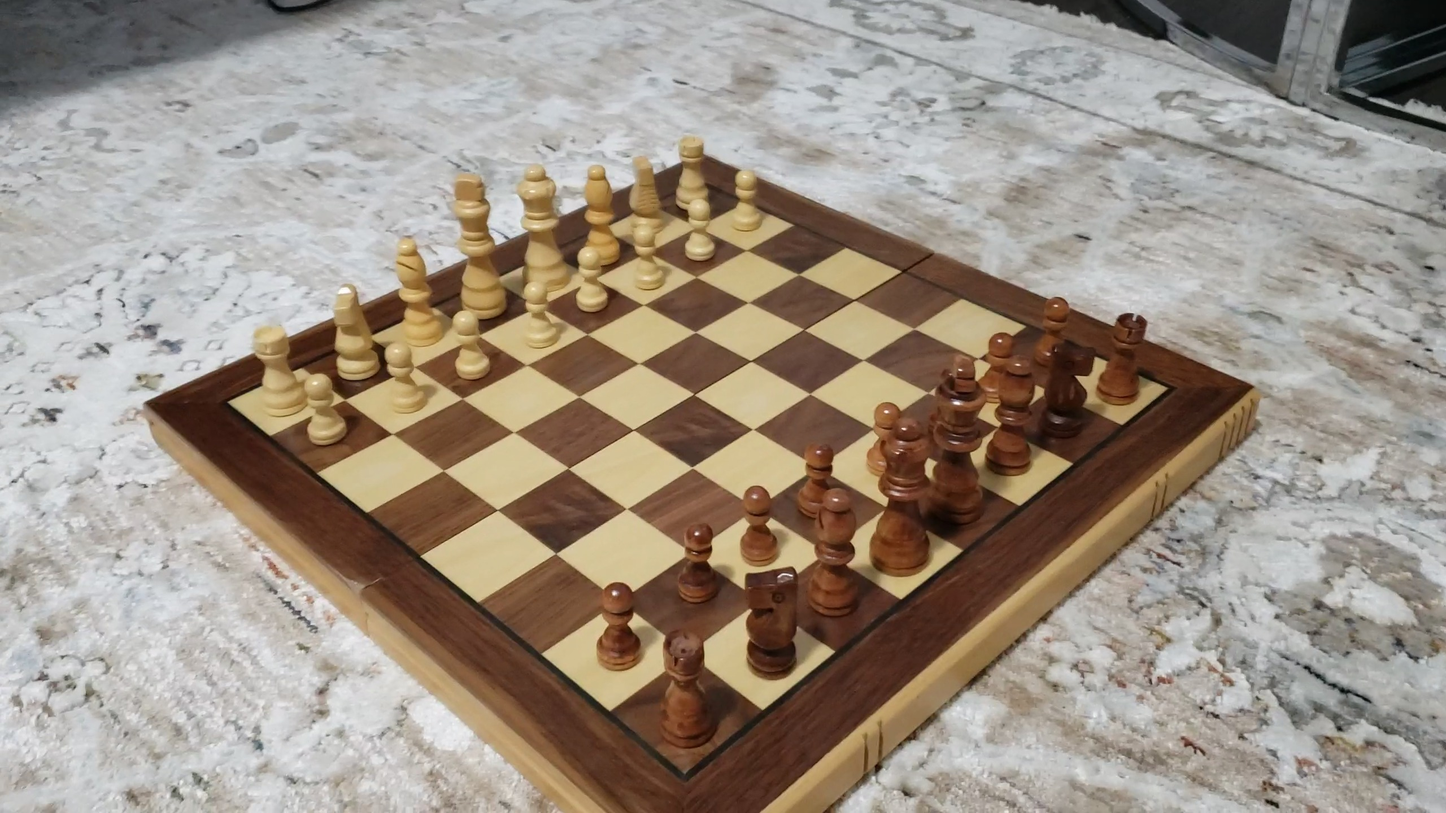black-bishop: (805, 490, 861, 618), (985, 352, 1039, 477)
black-king: (921, 354, 993, 526)
black-knight: (739, 567, 802, 680), (1034, 338, 1090, 438)
black-pawn: (593, 579, 644, 674), (673, 520, 722, 607), (736, 482, 781, 567), (866, 397, 905, 482), (977, 329, 1020, 404), (796, 440, 836, 519), (1033, 291, 1075, 366)
black-queen: (866, 405, 934, 576)
black-rook: (659, 628, 718, 751), (1097, 311, 1148, 404)
white-bishop: (391, 233, 441, 349), (582, 161, 620, 270)
white-king: (447, 165, 506, 320)
white-knight: (330, 281, 377, 386), (625, 151, 668, 244)
white-pawn: (297, 369, 352, 450), (621, 214, 675, 296), (513, 276, 568, 355), (443, 307, 497, 384), (380, 340, 430, 417), (567, 244, 616, 318), (722, 164, 768, 236), (677, 196, 723, 266)
white-queen: (517, 161, 564, 298)
white-rook: (251, 321, 304, 418), (674, 131, 711, 214)
